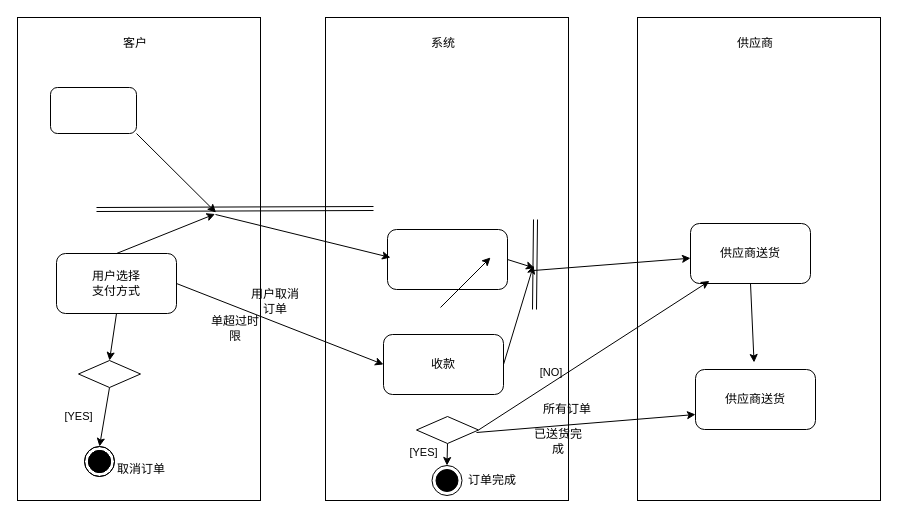
This 898x518 diagram has some shape labels left out. The box of each missing label's shape, as (x1, y1, x2, y2) in pixels:
生成送货单: (386, 228, 508, 290)
用户下订单: (50, 86, 136, 134)
